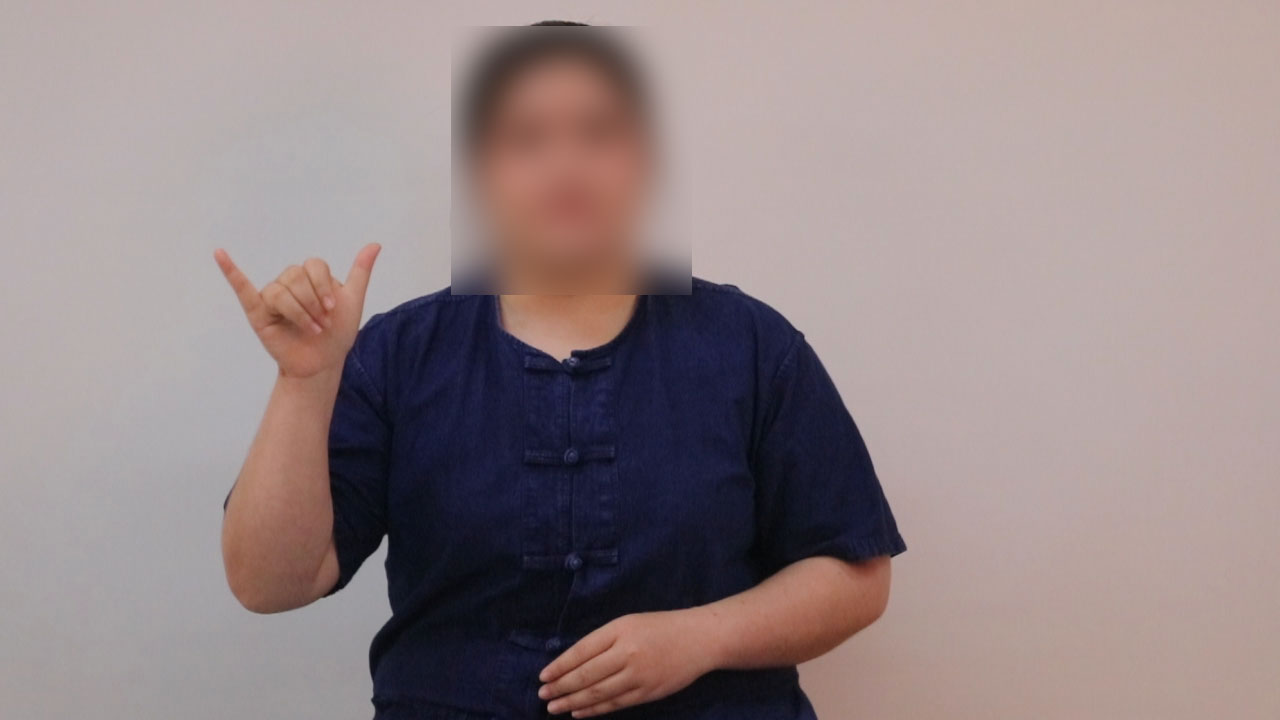yor: (203, 239, 399, 378)
